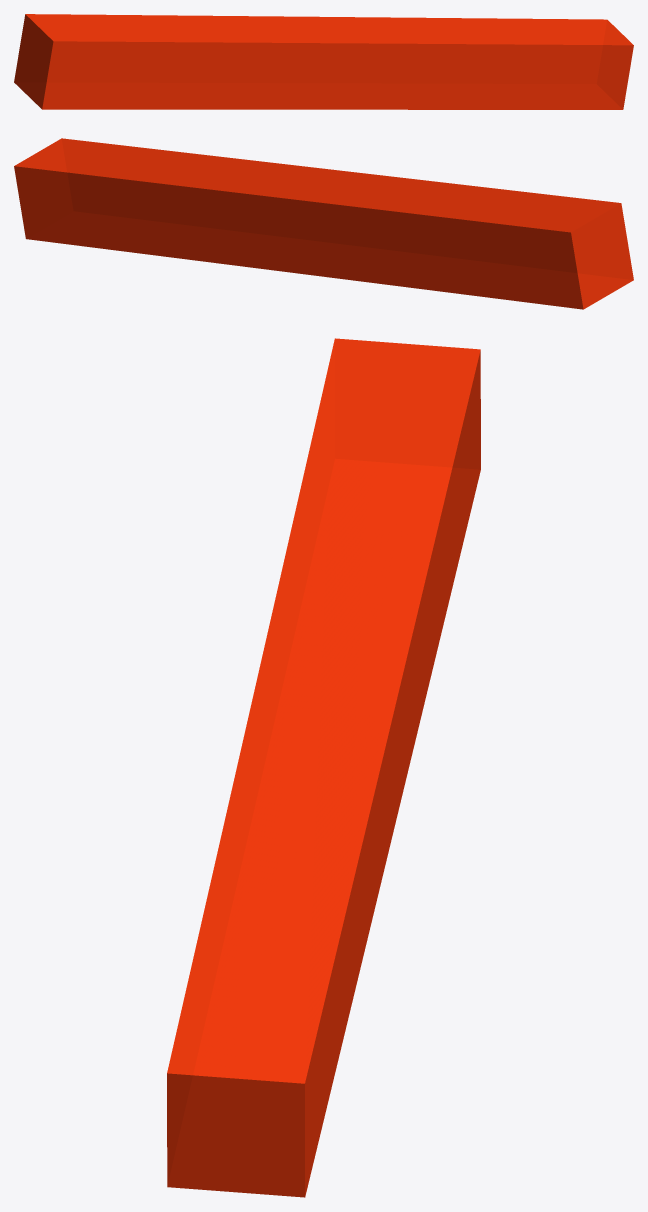
File: Event_421278790_EErechit_1.fbx
3 views of the same model, one above another, from view 1: azimuth 30°, elevation 25°; view 2: azimuth 150°, elevation 25°; view 3: azimuth 270°, elevation 25° (orthographic). The views are drawn at different scales.
Visible parts, largest first — view 1: Model; view 2: Model; view 3: Model.
Part boxes in pixels (box(x1,y1,x2,y2)): Model: box(14, 14, 633, 109); Model: box(14, 138, 633, 309); Model: box(167, 338, 480, 1197).
Size of the model in its own units: 0.6716 by 0.1935 by 0.1637.
